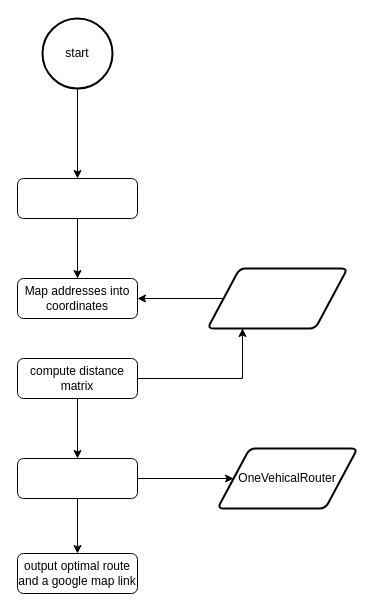
The diagram is 376 pixels wide and 611 high, and some of its shapes have lost their labels. Here are the shapes that lost their labels. From the top down, the box of each, then its label:
(16, 178, 138, 218): Addresses
(206, 267, 348, 329): DistanceMapper
(16, 458, 138, 498): use distance matrix to find optimal route
